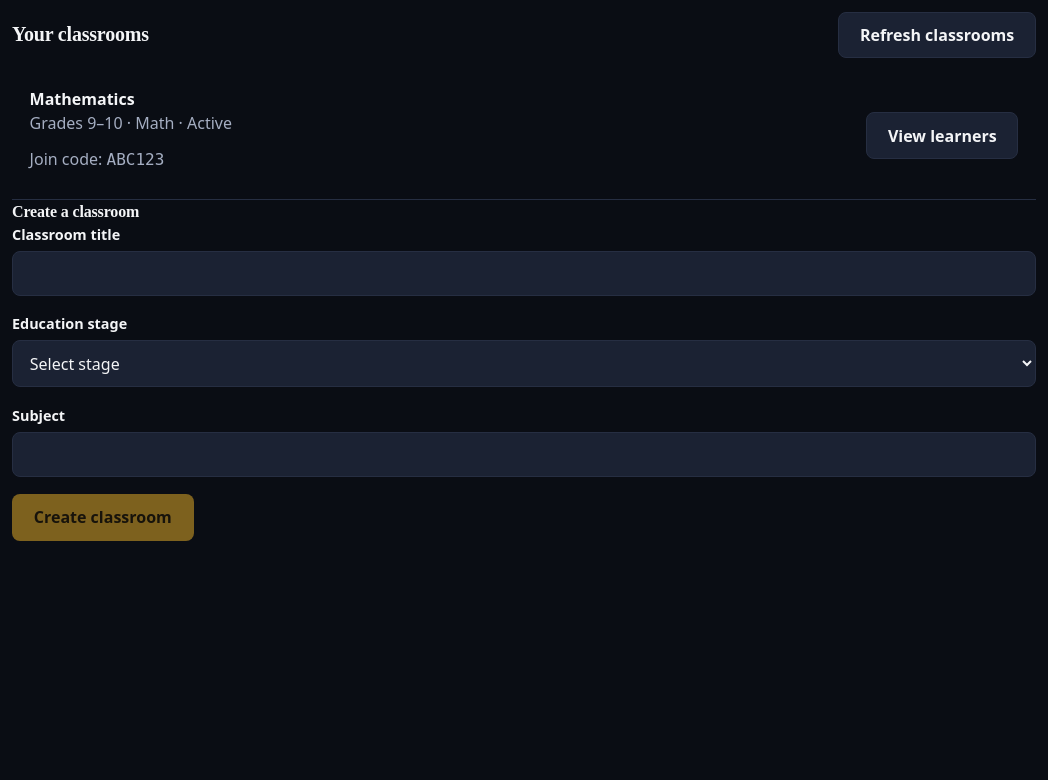
confirms a successful create even if the following list refresh fails
Step 1. Type " Science " into the field labelled "Classroom title" → (524, 273), box [12, 251, 1036, 296]
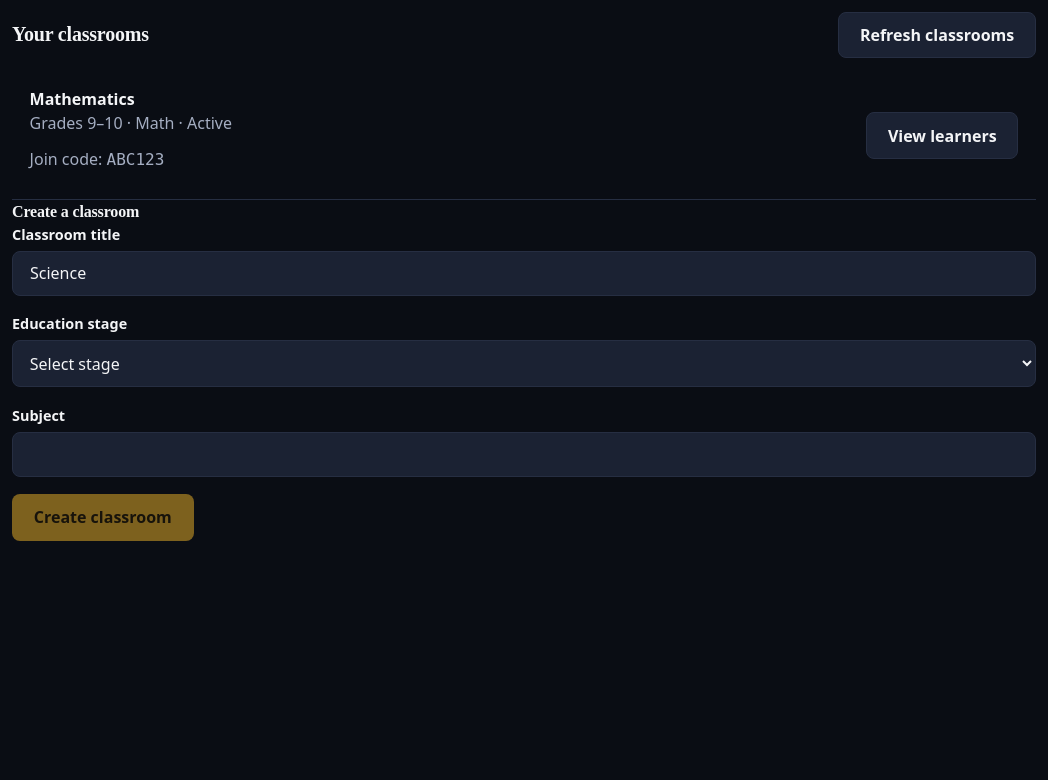
Step 2. Select "Grades 9–10" in the dropdown labelled "Education stage" → (524, 364), box [12, 340, 1036, 387]
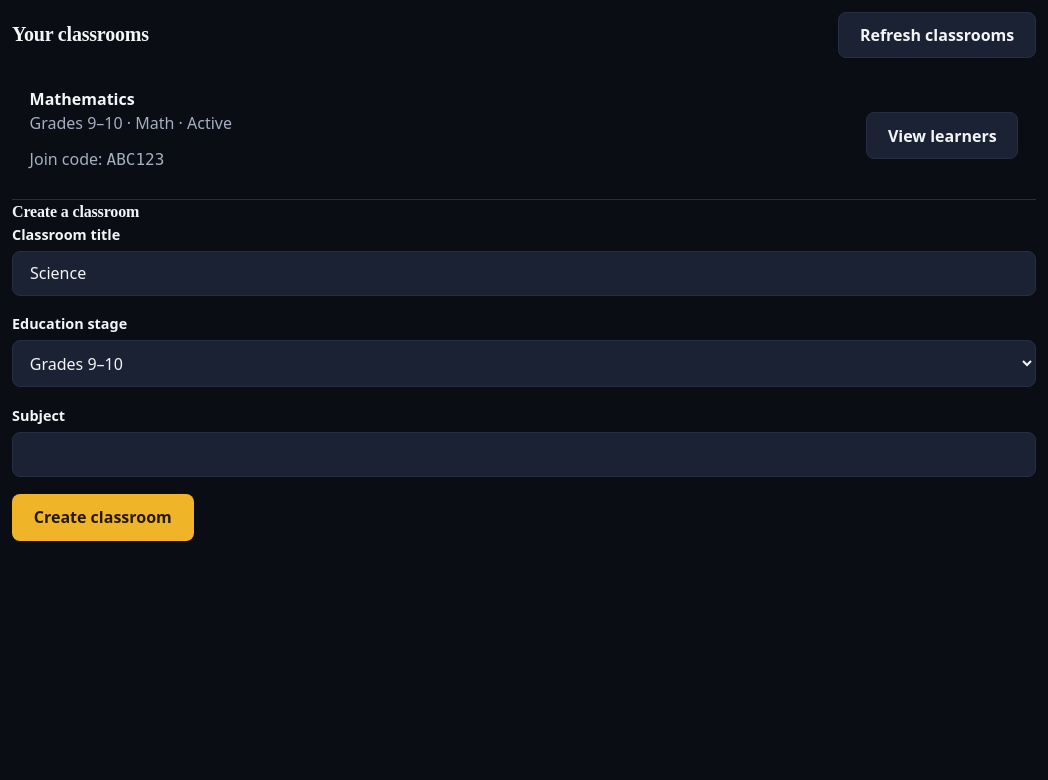
Step 3. Click the button "Create classroom" → (103, 518), box [12, 494, 194, 541]
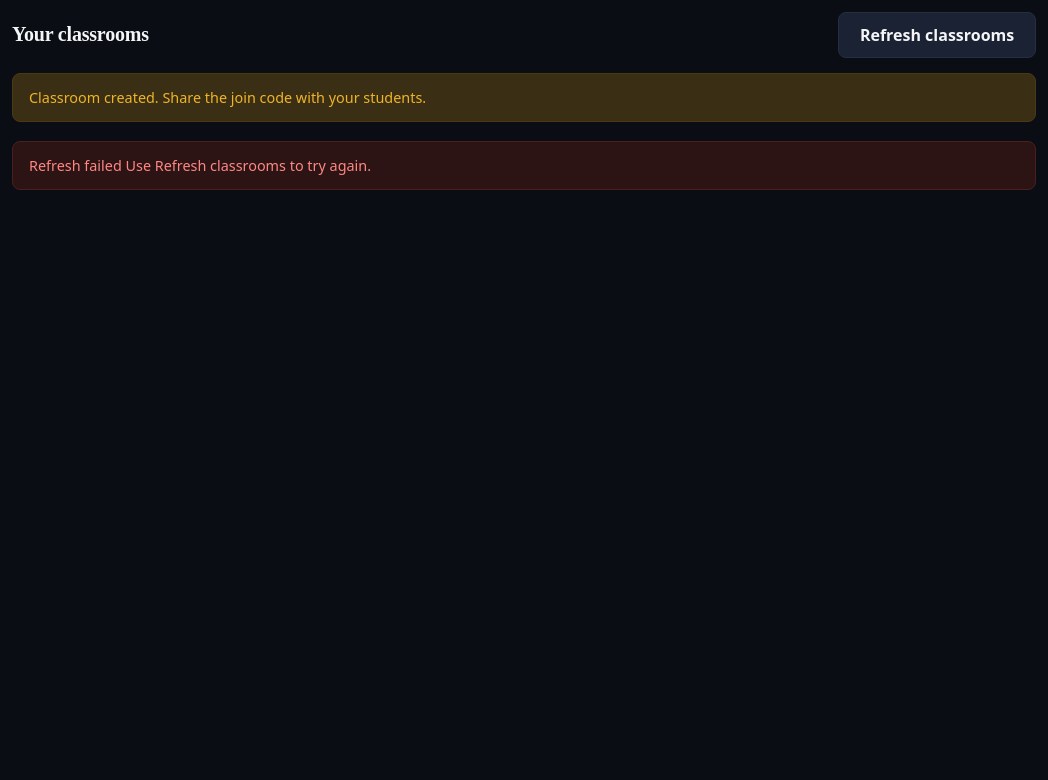
Now the text "Classroom created. Share the join code with your students." is shown, box [12, 73, 1036, 122]
Now the message "Refresh failed Use Refresh classrooms to try again." is shown, box [12, 141, 1036, 190]
